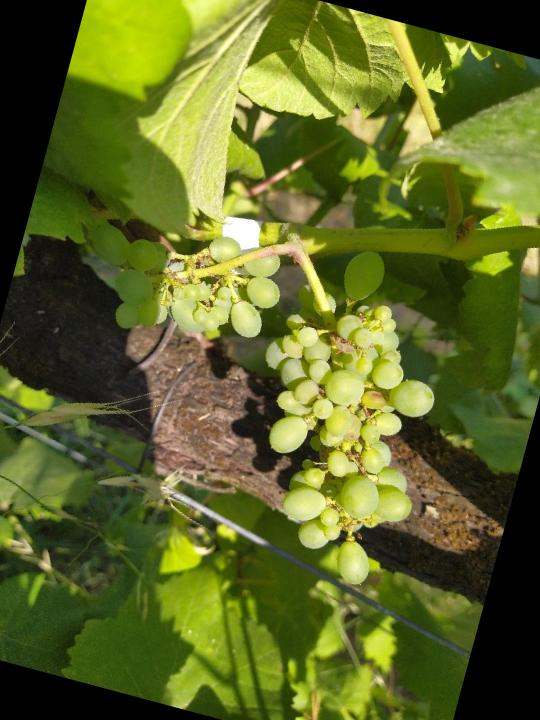grape: (17, 176, 481, 606)
